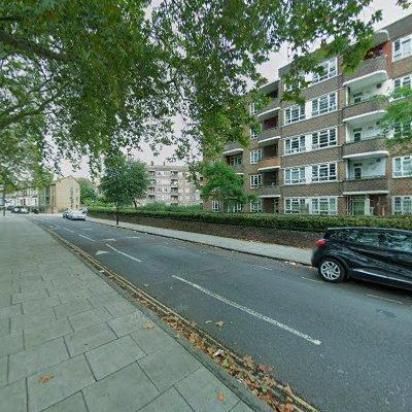stationary-car-onstreet: (308, 225, 412, 294), (66, 209, 86, 221)
